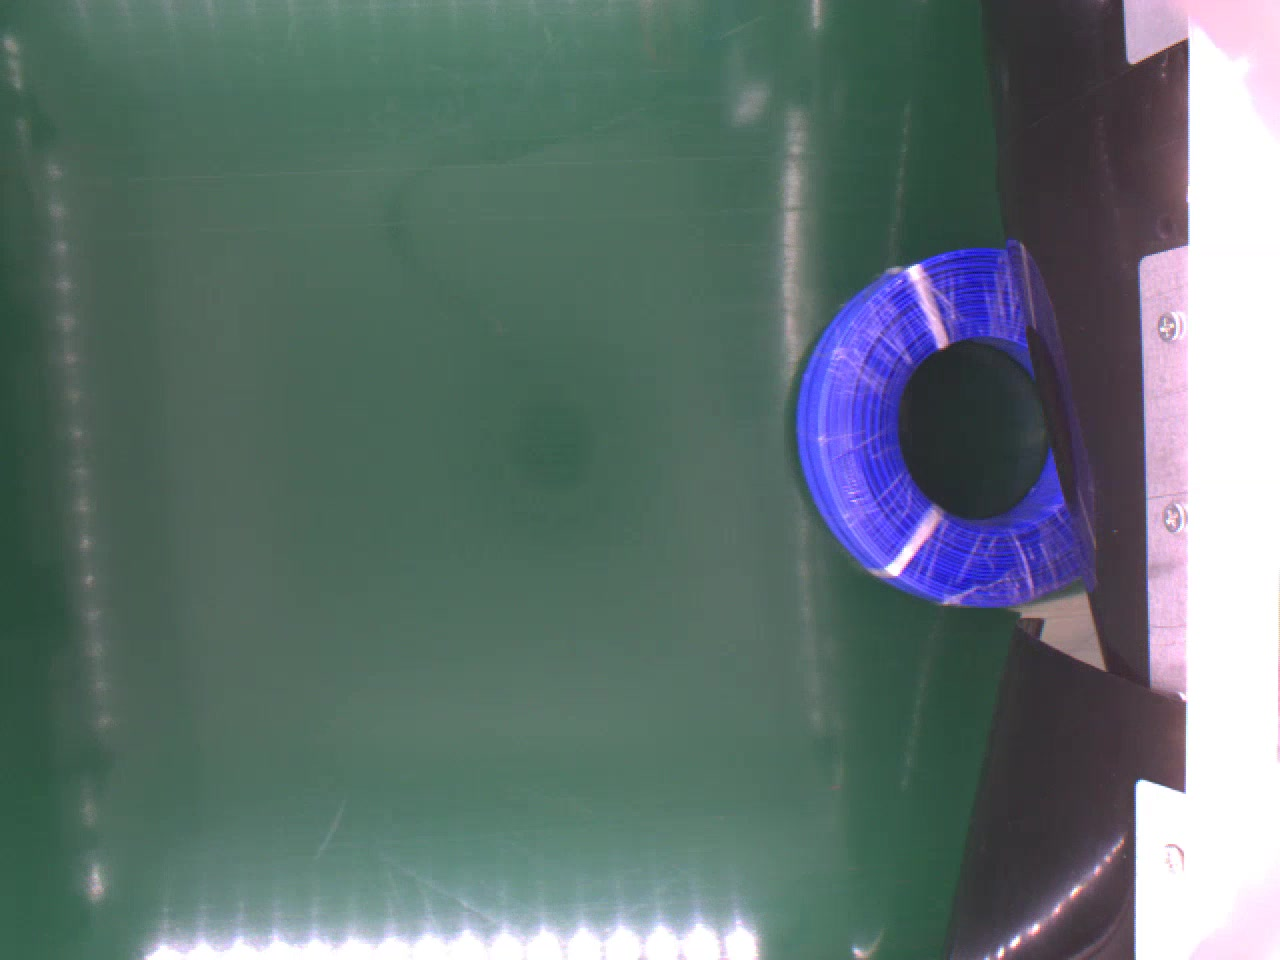blue: (791, 247, 1100, 612)
